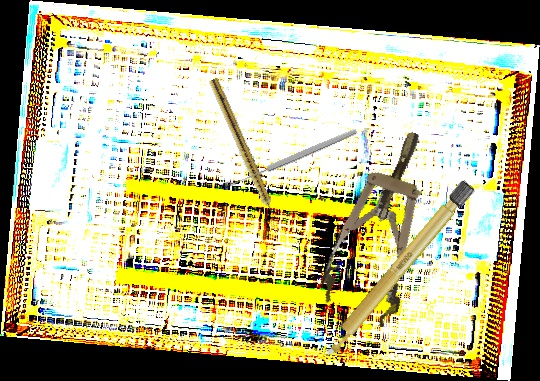Handpiece: (205, 77, 281, 224)
Scalpel Handle: (318, 178, 476, 362)
Speculum: (313, 119, 455, 331)
Surgical Spoon: (227, 127, 359, 189)
